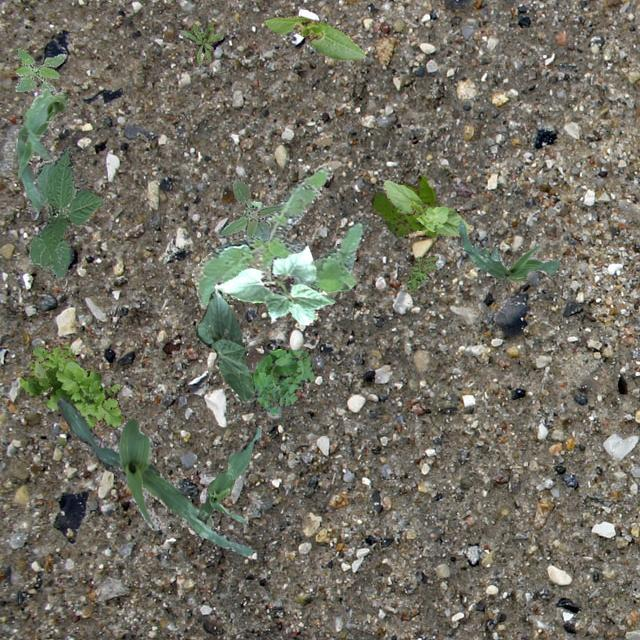crop: (56, 396, 252, 556), (24, 146, 100, 280), (213, 244, 334, 324), (194, 288, 253, 402), (17, 88, 68, 218), (456, 220, 560, 280), (196, 426, 260, 522), (382, 180, 472, 237), (264, 15, 364, 60)
weed: (190, 166, 368, 308), (18, 342, 124, 428), (370, 173, 440, 236), (252, 348, 314, 413), (220, 178, 280, 240), (14, 48, 66, 90), (178, 23, 222, 66), (402, 254, 438, 290)
